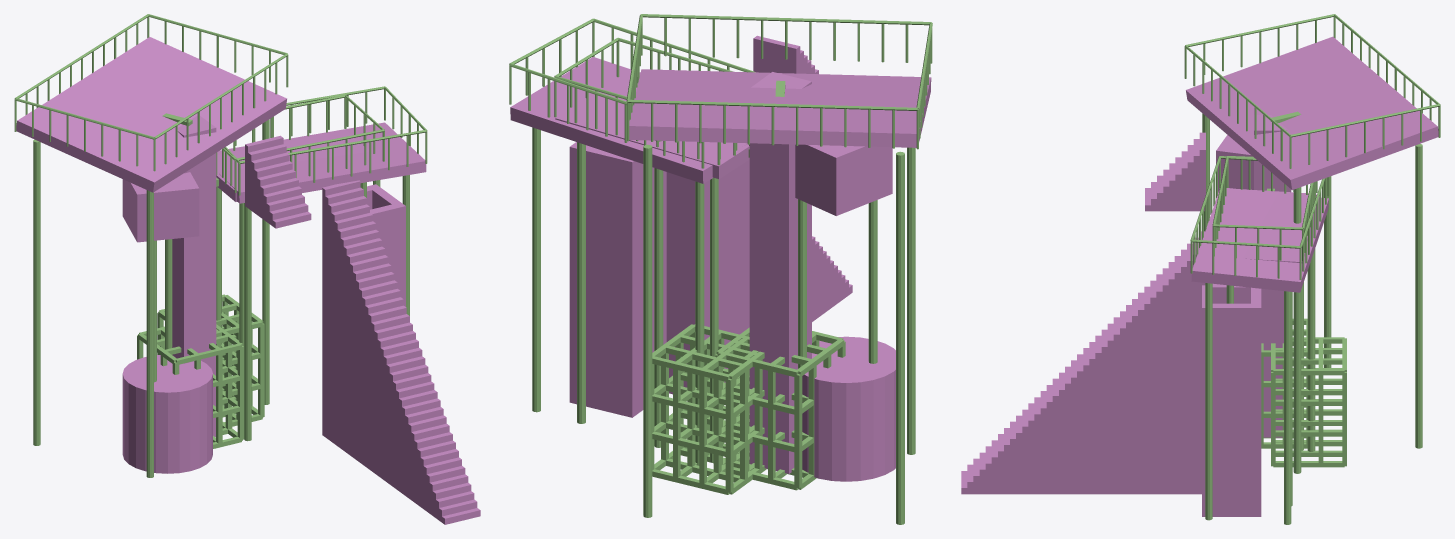
Rendered from folie_tag_095.glb.
3 renders of one model, left to right at view 1: azimuth 30°, elevation 25°; view 2: azimuth 150°, elevation 25°; view 3: azimuth 270°, elevation 25°, orthographic. The views are drawn at different scales.
Visible parts, largest first — view 1: folie_tag_095_stairs, folie_tag_095_line, folie_tag_095_00_plate, folie_tag_095_06_drum, folie_tag_095_core, folie_tag_095_01_plate, folie_tag_095_04_cage, folie_tag_095_05_block, folie_tag_095_07_cage, folie_tag_095_03_tower, folie_tag_095_02_plate; view 2: folie_tag_095_line, folie_tag_095_00_plate, folie_tag_095_03_tower, folie_tag_095_stairs, folie_tag_095_core, folie_tag_095_07_cage, folie_tag_095_06_drum, folie_tag_095_04_cage, folie_tag_095_01_plate, folie_tag_095_05_block, folie_tag_095_02_plate; view 3: folie_tag_095_stairs, folie_tag_095_line, folie_tag_095_00_plate, folie_tag_095_03_tower, folie_tag_095_01_plate, folie_tag_095_07_cage, folie_tag_095_core, folie_tag_095_02_plate, folie_tag_095_04_cage, folie_tag_095_05_block.
Part boxes in pixels (x1,y1,x2,y2): folie_tag_095_stairs: (245,135,480,524); folie_tag_095_line: (14,14,427,477); folie_tag_095_00_plate: (16,37,286,192); folie_tag_095_06_drum: (122,355,212,473); folie_tag_095_core: (172,115,216,436); folie_tag_095_01_plate: (217,122,426,203); folie_tag_095_04_cage: (137,324,244,448); folie_tag_095_05_block: (122,172,199,242); folie_tag_095_07_cage: (157,294,264,426); folie_tag_095_03_tower: (367,184,405,306); folie_tag_095_02_plate: (216,129,369,201); folie_tag_095_line: (509,14,932,524); folie_tag_095_00_plate: (629,69,931,147); folie_tag_095_03_tower: (569,142,666,417); folie_tag_095_stairs: (666,35,852,394); folie_tag_095_core: (749,72,811,473); folie_tag_095_07_cage: (652,324,766,494); folie_tag_095_06_drum: (802,336,895,481); folie_tag_095_04_cage: (715,327,845,490); folie_tag_095_01_plate: (510,57,747,183); folie_tag_095_05_block: (795,144,892,215); folie_tag_095_02_plate: (555,91,749,178); folie_tag_095_stairs: (961,132,1205,494); folie_tag_095_line: (1184,14,1440,524); folie_tag_095_00_plate: (1186,36,1438,190); folie_tag_095_03_tower: (1202,283,1261,516); folie_tag_095_01_plate: (1191,188,1328,292); folie_tag_095_07_cage: (1271,337,1346,467); folie_tag_095_core: (1254,115,1291,437); folie_tag_095_02_plate: (1239,189,1316,262); folie_tag_095_04_cage: (1261,318,1307,448); folie_tag_095_05_block: (1216,135,1253,192).
Size of the model in its own units: 12 by 11.33 by 14.15.
